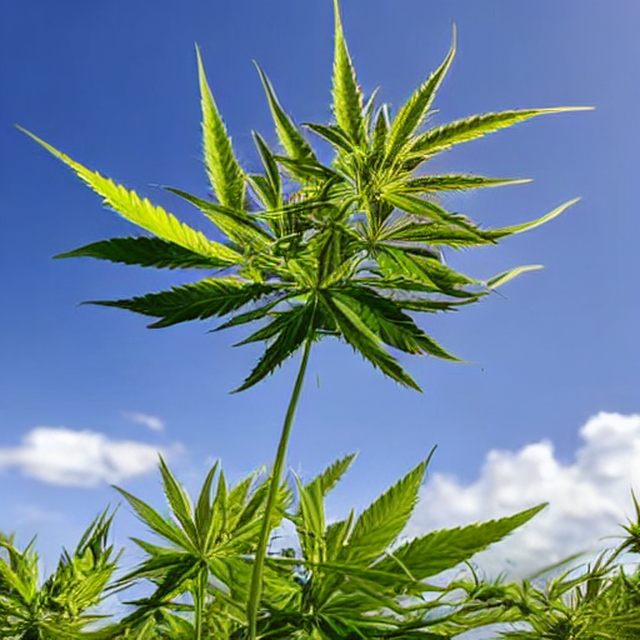Marijuana Joint: (32, 14, 589, 640)
